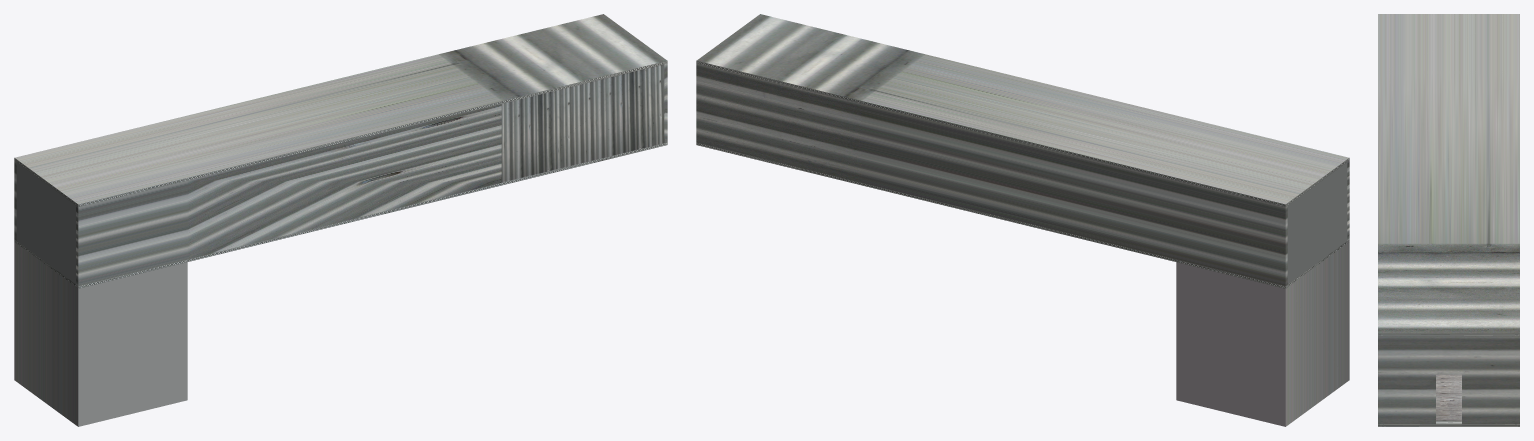
The model's file is SecondBaggage.fbx.
The picture shows the model from 3 angles, left to right: view 1: azimuth 30°, elevation 25°; view 2: azimuth 150°, elevation 25°; view 3: azimuth 270°, elevation 25°; orthographic projection. The views are drawn at different scales.
Visible parts, largest first — view 1: Cube.002; view 2: Cube.002; view 3: Cube.002.
Boxes of the visible parts, x1,y1,x2,y2 form: Cube.002: [14, 14, 667, 426]; Cube.002: [696, 14, 1349, 426]; Cube.002: [1378, 14, 1519, 426].
Bounding box in the file's own units: 12793 × 4617 × 2400.
